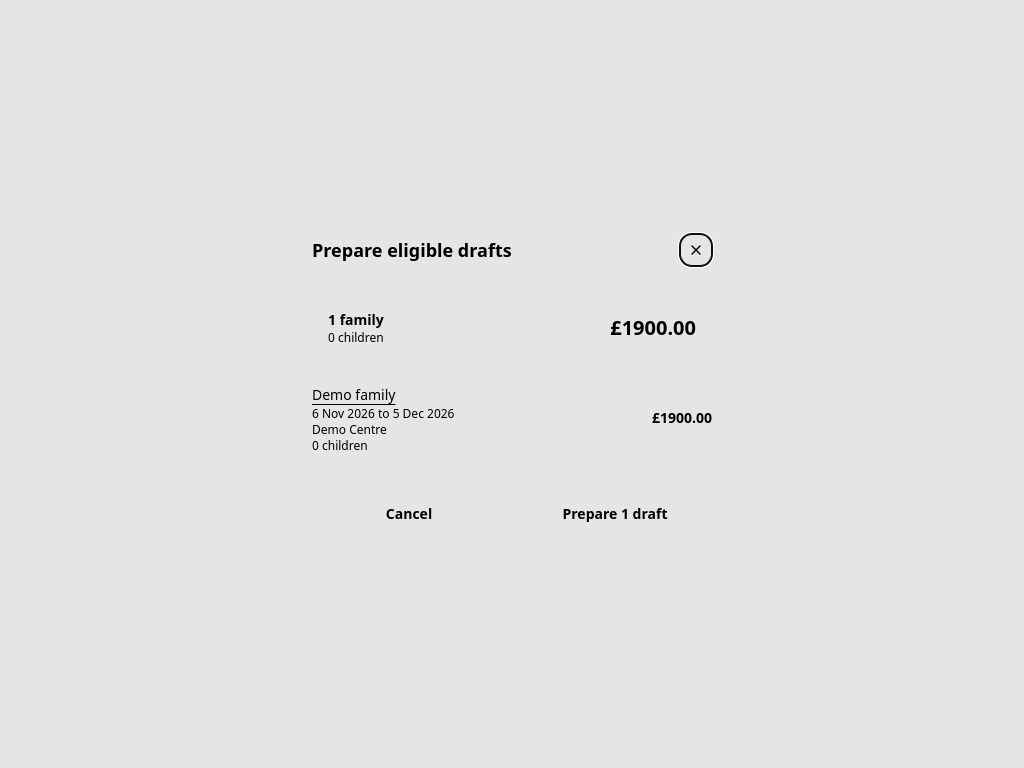
Test: eligible draft preparation preview › reports draft completion without claiming issuance or delivery
What coordinates should you click on to do the following:
click the button "Prepare 1 draft"
I would click on:
 (615, 514)
Its box is [518, 494, 712, 534].
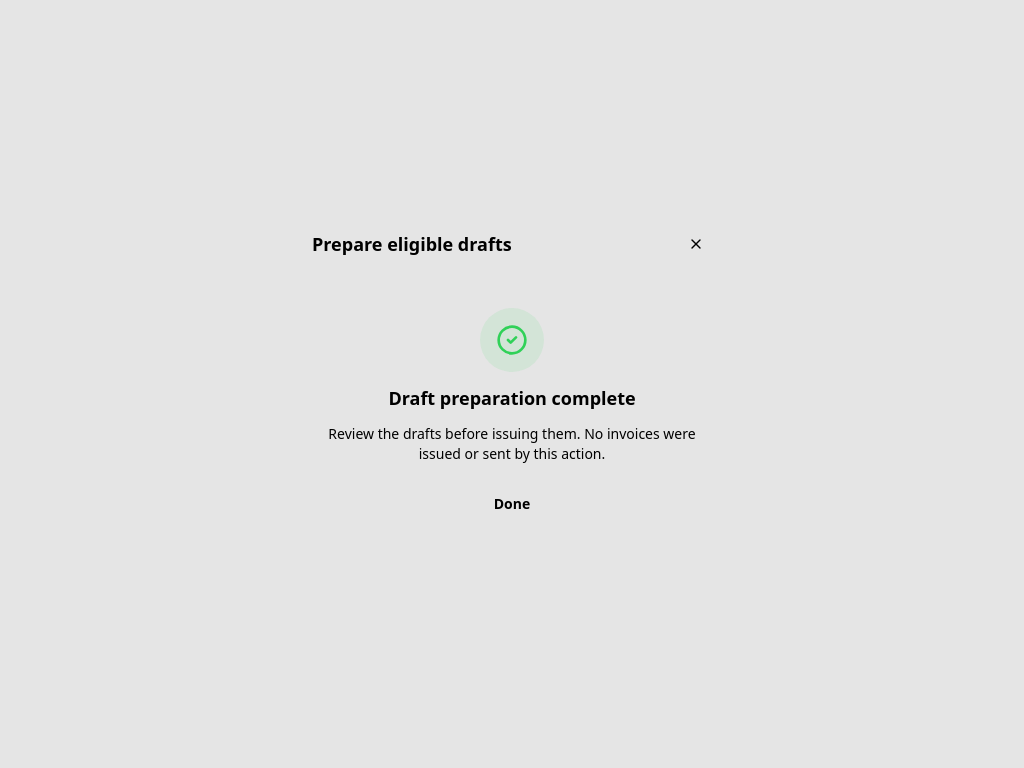
Expected: the text "Draft preparation complete" is shown, [388, 384, 636, 412]
Expected: the text "No invoices were issued or sent by this action" is shown, [328, 424, 696, 463]
